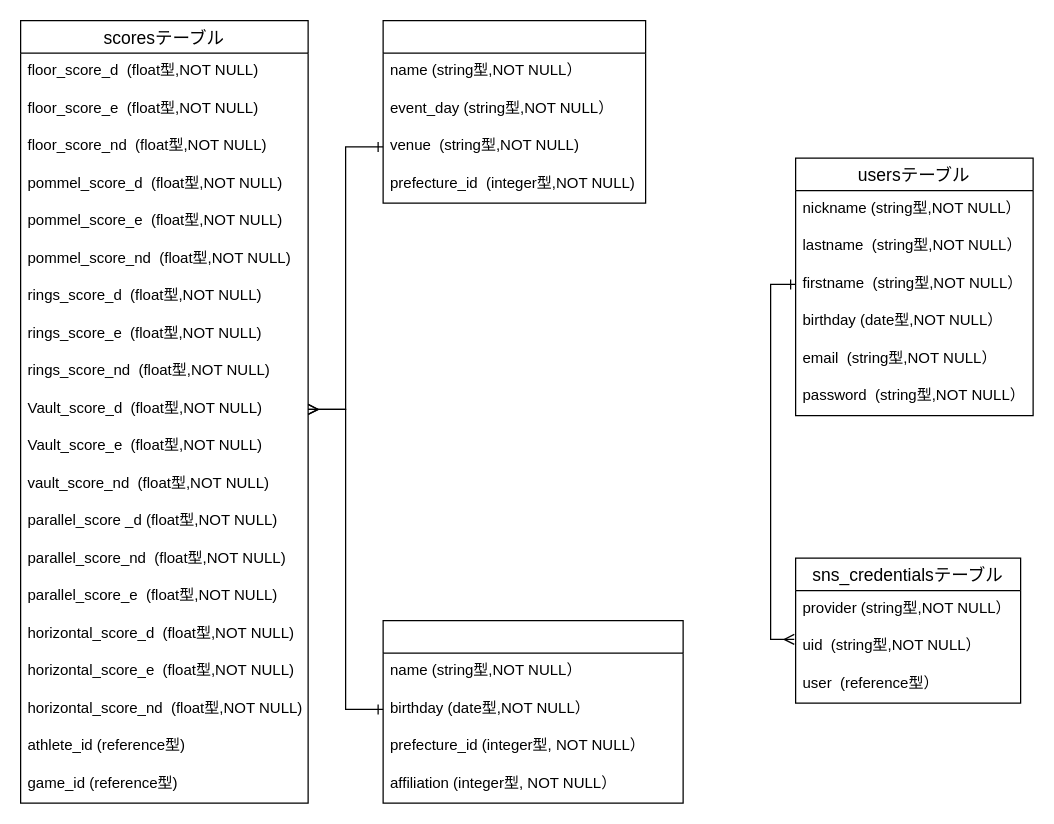
Some shapes in this 1054 by 824 pixel diagram are drawn without their labels. Here are the shapes that lost their labels. From the top down, the box of each, then its label:
(382, 19, 646, 203): gamesテーブル
(382, 619, 683, 803): athletesテーブル
